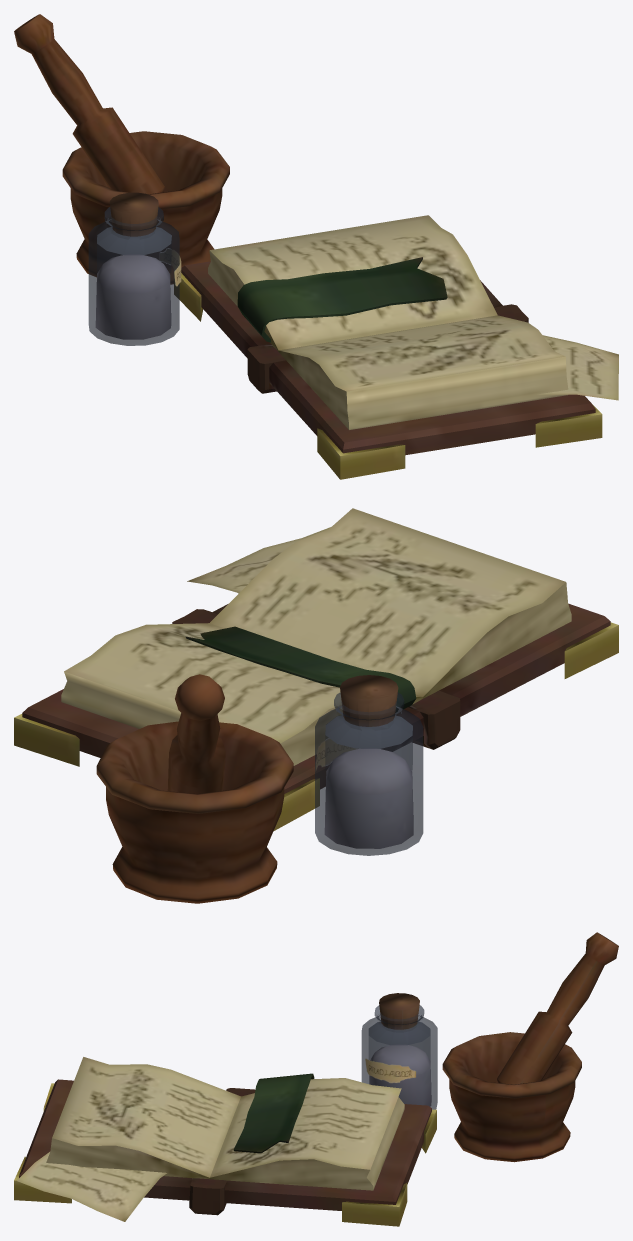
File: potion_starter_kit.glb
3 views of the same model, one above another, from view 1: azimuth 30°, elevation 25°; view 2: azimuth 150°, elevation 25°; view 3: azimuth 270°, elevation 25° (orthographic). The views are drawn at different scales.
Visible parts, largest first — view 1: SM_RecipeSpellBook_M_RecipeBook_0, SM_Mortar_n_Pestle_M_MortarNpestle_0, SM_GroundLavender_M_HerbJar_0; view 2: SM_RecipeSpellBook_M_RecipeBook_0, SM_Mortar_n_Pestle_M_MortarNpestle_0, SM_GroundLavender_M_HerbJar_0; view 3: SM_RecipeSpellBook_M_RecipeBook_0, SM_Mortar_n_Pestle_M_MortarNpestle_0, SM_GroundLavender_M_HerbJar_0.
Boxes of the visible parts, x1,y1,x2,y2 form: SM_RecipeSpellBook_M_RecipeBook_0: [174, 215, 618, 479]; SM_Mortar_n_Pestle_M_MortarNpestle_0: [14, 14, 229, 284]; SM_GroundLavender_M_HerbJar_0: [88, 192, 181, 345]; SM_RecipeSpellBook_M_RecipeBook_0: [14, 508, 618, 830]; SM_Mortar_n_Pestle_M_MortarNpestle_0: [96, 674, 293, 903]; SM_GroundLavender_M_HerbJar_0: [315, 675, 423, 855]; SM_RecipeSpellBook_M_RecipeBook_0: [14, 1057, 436, 1226]; SM_Mortar_n_Pestle_M_MortarNpestle_0: [442, 932, 618, 1162]; SM_GroundLavender_M_HerbJar_0: [361, 993, 437, 1109].
Bounding box in the file's own units: 0.2071 × 0.1197 × 0.3628.
3 materials, 3 textured.
